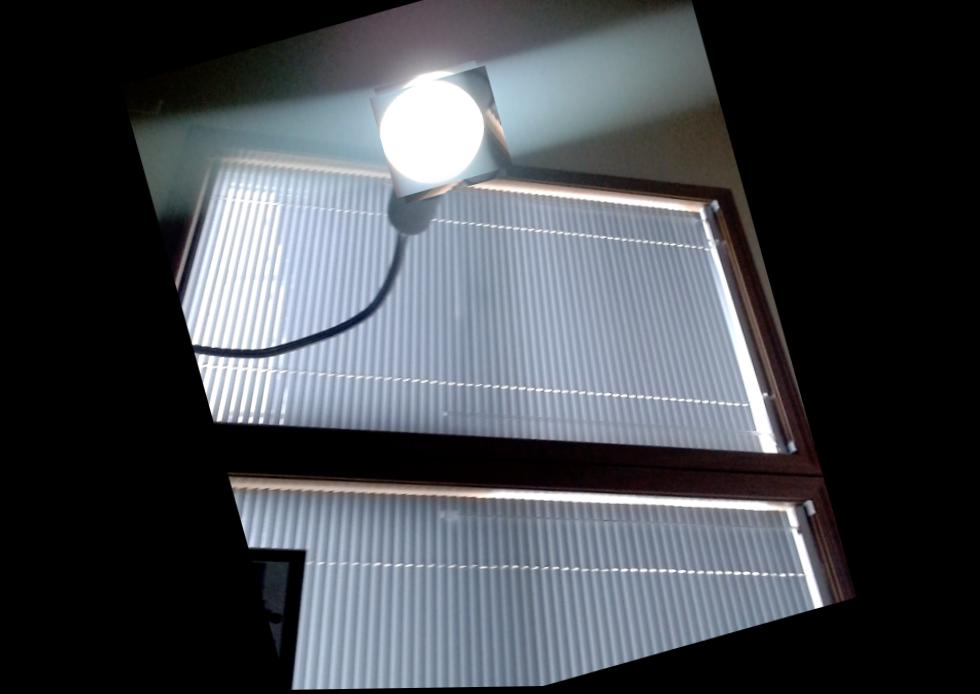TubeLight: (370, 64, 509, 202)
